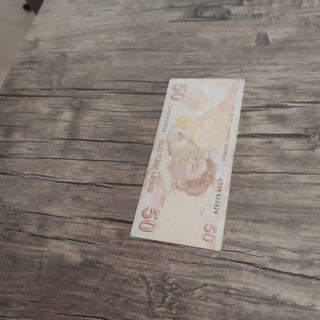50TLBack: (129, 77, 244, 252)
